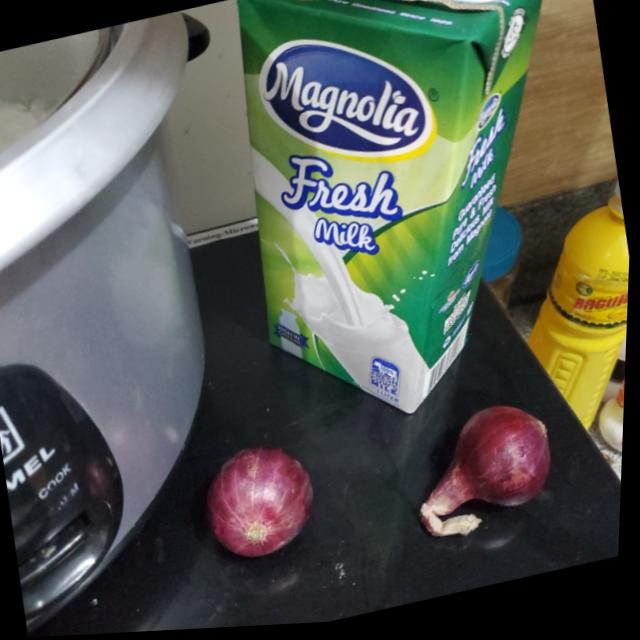milk: (208, 0, 618, 448)
onion: (404, 399, 569, 547), (199, 438, 327, 568)
